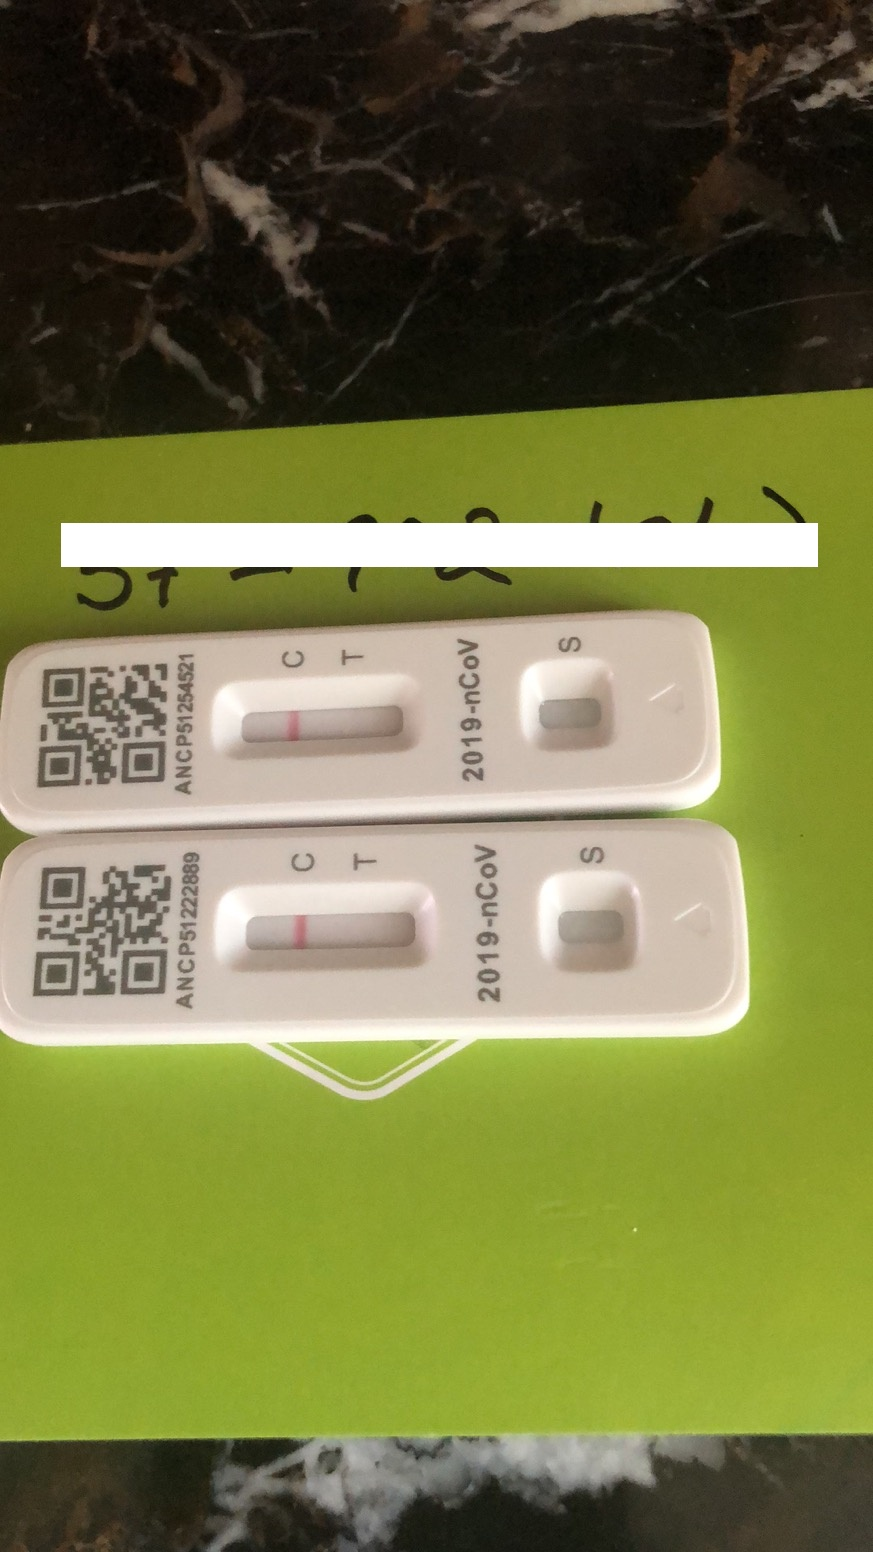negative: (216, 888, 430, 975), (203, 678, 432, 759)
